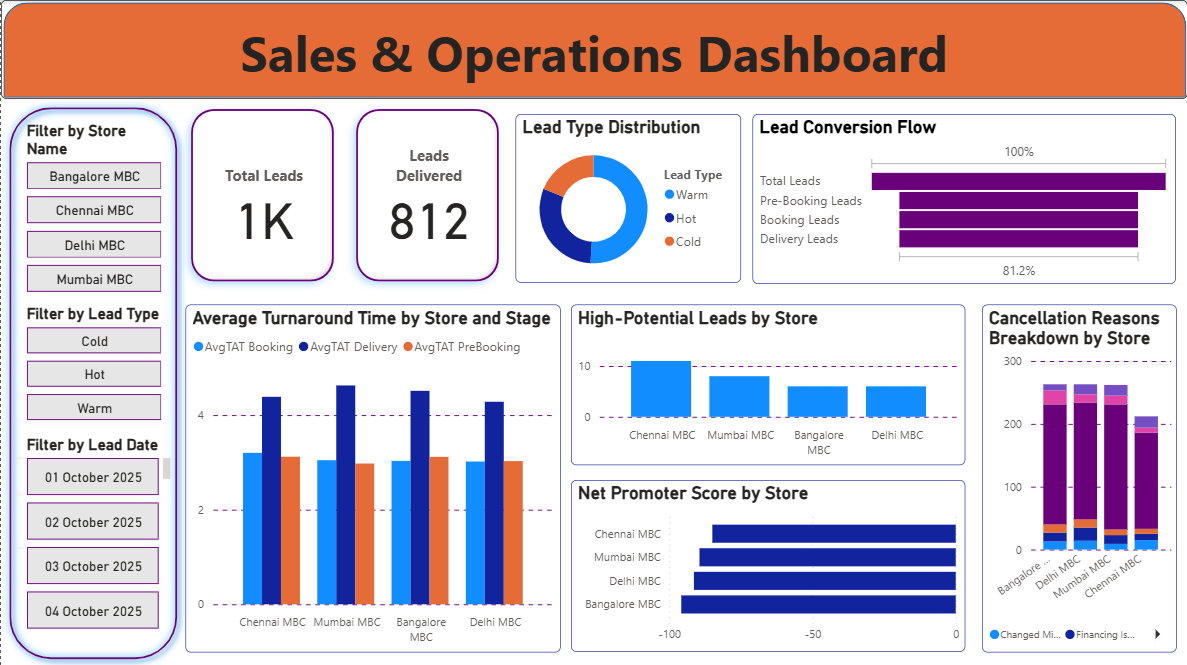

This screenshot's page, from the dashboard's own definition file:
{"tool":"powerbi","page":{"name":"Page 1","canvas":[1280,720],"ordinal":0},"visuals":[{"type":"shape","box":[0,0,1279.8,106.8],"z":0},{"type":"textbox","box":[0,14.6,1279.8,92.2],"z":1000},{"type":"cardVisual","fields":{"Data":["cleaned_electricPe.TotalLeads","cleaned_electricPe.DeliveryLeads"]},"box":[187.7,100.3,367.3,220],"z":2000},{"type":"shape","box":[0,106.8,199,613.2],"z":3000},{"type":"clusteredColumnChart","title":"Average Turnaround Time by Store and Stage","fields":{"Y":["cleaned_electricPe.AvgTAT_Booking","cleaned_electricPe.AvgTAT_Delivery","cleaned_electricPe.AvgTAT_PreBooking"],"Category":["cleaned_electricPe.Store Name"]},"box":[199,328.4,404.5,375.4],"z":4000},{"type":"funnel","title":"Lead Conversion Flow","fields":{"Y":["cleaned_electricPe.TotalLeads","cleaned_electricPe.PreBookingLeads","cleaned_electricPe.BookingLeads","cleaned_electricPe.DeliveryLeads"]},"box":[810,123.3,456.7,183.3],"z":6000},{"type":"donutChart","title":"Lead Type Distribution","fields":{"Category":["cleaned_electricPe.Lead Type"],"Y":["CountNonNull(cleaned_electricPe.Lead ID)"]},"box":[555,123.3,243.3,181.7],"z":8000},{"type":"clusteredBarChart","title":"Net Promoter Score by Store","fields":{"Y":["cleaned_electricPe.NPS_by_Store"],"Category":["cleaned_electricPe.Store Name"]},"box":[615,518.3,425,185],"z":10000},{"type":"columnChart","title":"High-Potential Leads by Store","fields":{"Category":["cleaned_electricPe.Store Name"],"Y":["cleaned_electricPe.HighPotentialLeads_Store"]},"box":[614.8,328.4,425.5,173.1],"z":12000},{"type":"columnChart","title":"Cancellation Reasons Breakdown by Store","fields":{"Category":["cleaned_electricPe.Store Name"],"Y":["CountNonNull(cleaned_electricPe.Lead ID)"],"Series":["cleaned_electricPe.Cancellation Reason"]},"box":[1058.3,328.3,210,375],"z":14000},{"type":"advancedSlicerVisual","title":"Filter by Store Name","fields":{"Values":["cleaned_electricPe.Store Name"]},"box":[22.7,131.1,155.3,189.3],"z":16000},{"type":"advancedSlicerVisual","title":"Filter by Lead Type","fields":{"Values":["cleaned_electricPe.Lead Type"]},"box":[22.7,328.4,155.3,129.4],"z":17000},{"type":"advancedSlicerVisual","title":"Filter by Lead Date","fields":{"Values":["cleaned_electricPe.Lead Date"]},"box":[22.7,469.2,165,213.6],"z":18000}]}

Visuals, with their boxes in screenshot pixels (x1, y1, x2, y2), scaled from the page's 1280x720 canvas onto the 1187x665 screenshot:
shape: detection(0, 0, 1186, 99)
textbox: detection(0, 13, 1186, 99)
cardVisual - cleaned_electricPe.TotalLeads x cleaned_electricPe.DeliveryLeads: detection(174, 93, 515, 296)
shape: detection(0, 99, 185, 664)
"Average Turnaround Time by Store and Stage" clusteredColumnChart: detection(185, 303, 560, 650)
"Lead Conversion Flow" funnel: detection(751, 114, 1175, 283)
"Lead Type Distribution" donutChart: detection(515, 114, 740, 282)
"Net Promoter Score by Store" clusteredBarChart: detection(570, 479, 964, 650)
"High-Potential Leads by Store" columnChart: detection(570, 303, 965, 463)
"Cancellation Reasons Breakdown by Store" columnChart: detection(981, 303, 1176, 650)
"Filter by Store Name" advancedSlicerVisual: detection(21, 121, 165, 296)
"Filter by Lead Type" advancedSlicerVisual: detection(21, 303, 165, 423)
"Filter by Lead Date" advancedSlicerVisual: detection(21, 433, 174, 631)
